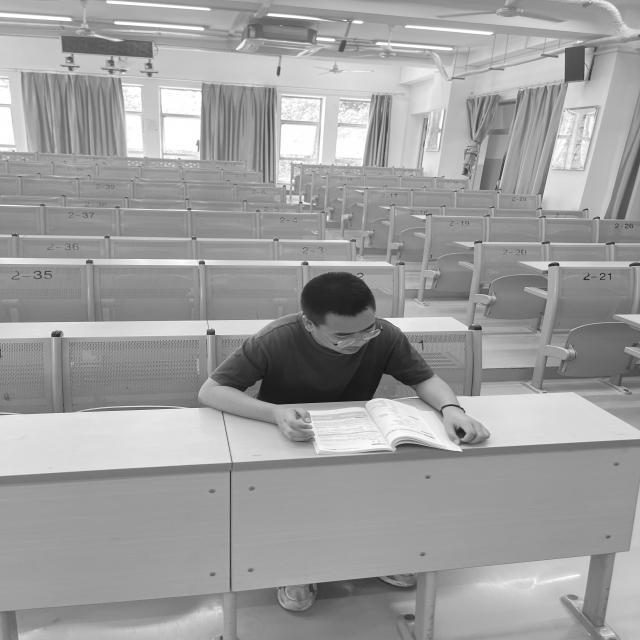study: (200, 272, 491, 449)
